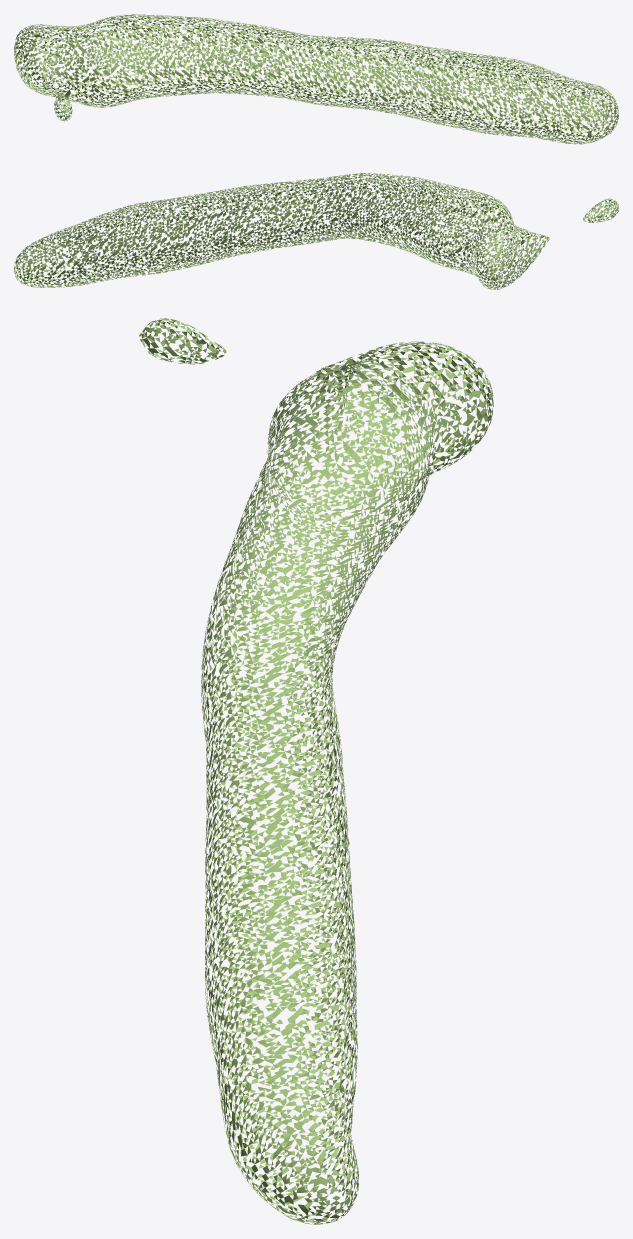
Rendered from morph_012.glb.
The picture shows the model from 3 angles, top to bottom: view 1: azimuth 30°, elevation 25°; view 2: azimuth 150°, elevation 25°; view 3: azimuth 270°, elevation 25°; orthographic projection. The views are drawn at different scales.
Bounding box in the file's own units: 135 × 47.28 × 37.07.
